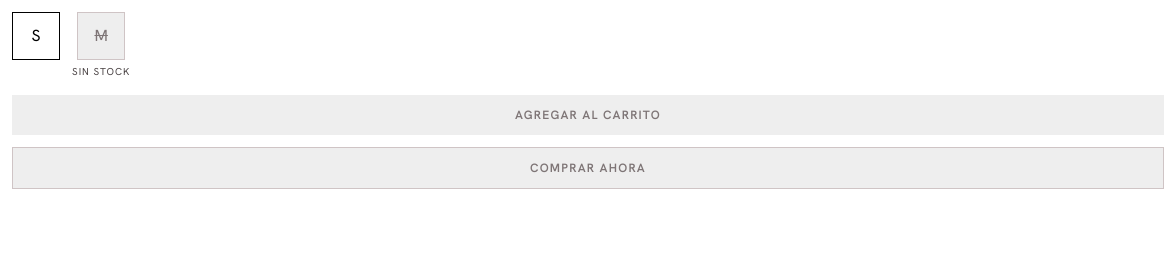
Scenario: SizeSelector › keeps add to cart disabled until an in-stock size is selected, then enables it
Expected: the button "Agregar al carrito" is disabled, [12,95,1164,135]
Click the button "S": (36, 36) [12,12,60,60]
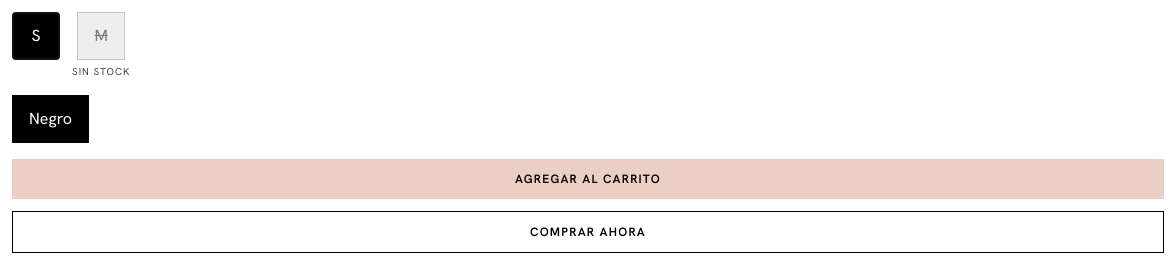
Now the button "Agregar al carrito" is enabled, box [12,159,1164,199]
